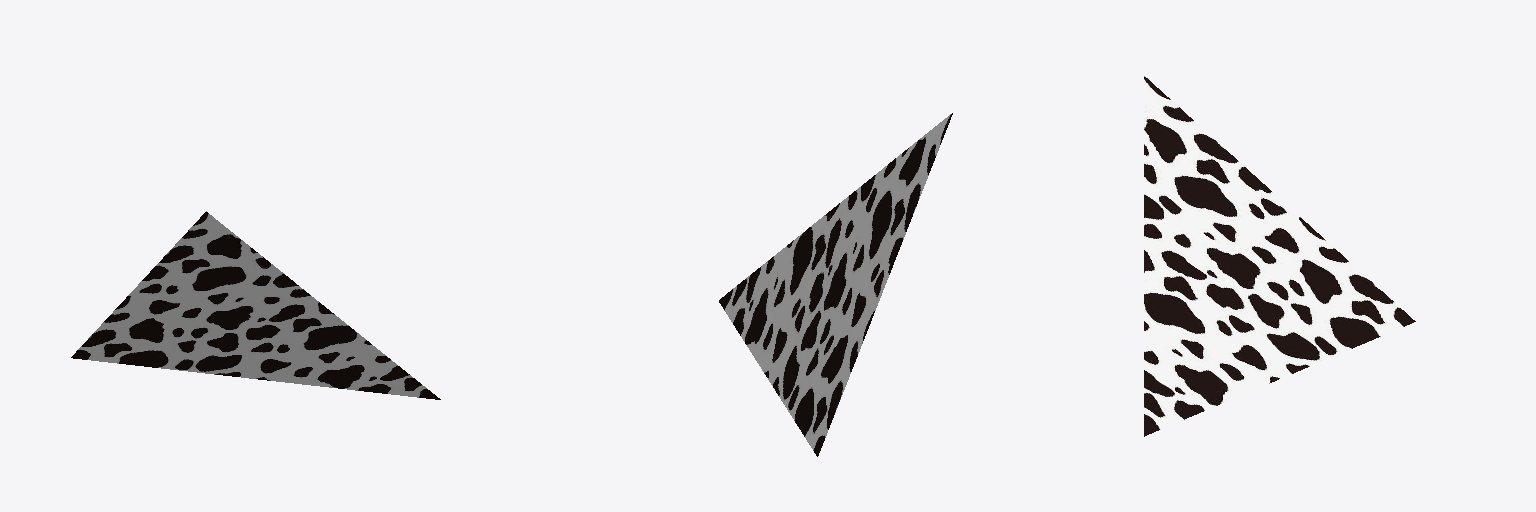
3 renders of one model, left to right at view 1: azimuth 30°, elevation 25°; view 2: azimuth 150°, elevation 25°; view 3: azimuth 270°, elevation 25°, orthographic.
Size of the model in its own units: 20 by 20 by 20.
1 materials, 1 textured.